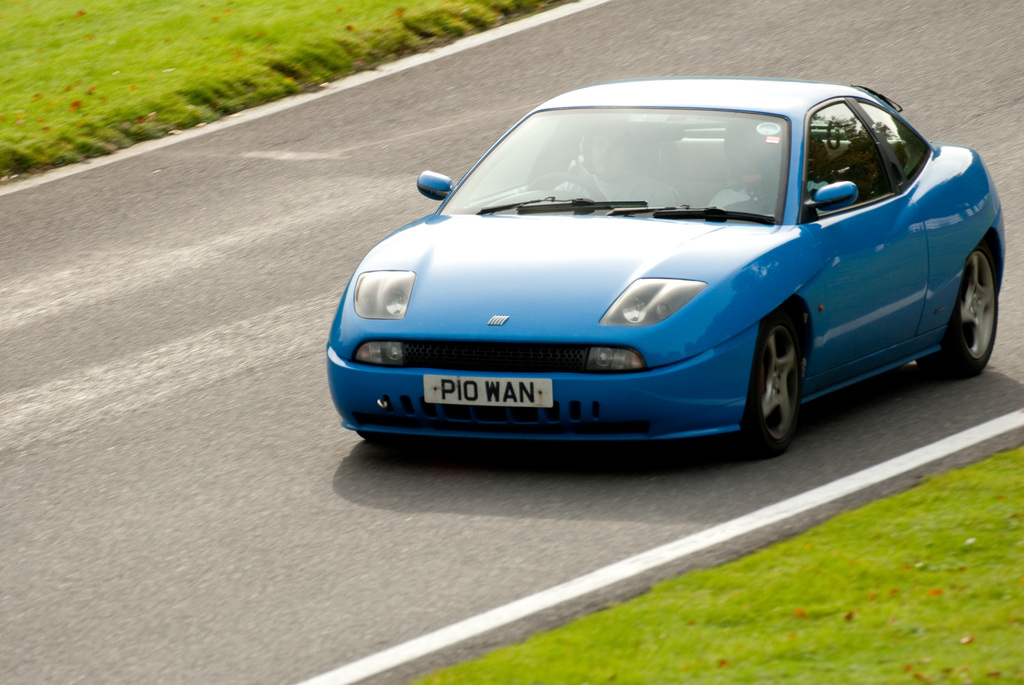mobil: (327, 63, 1016, 466)
